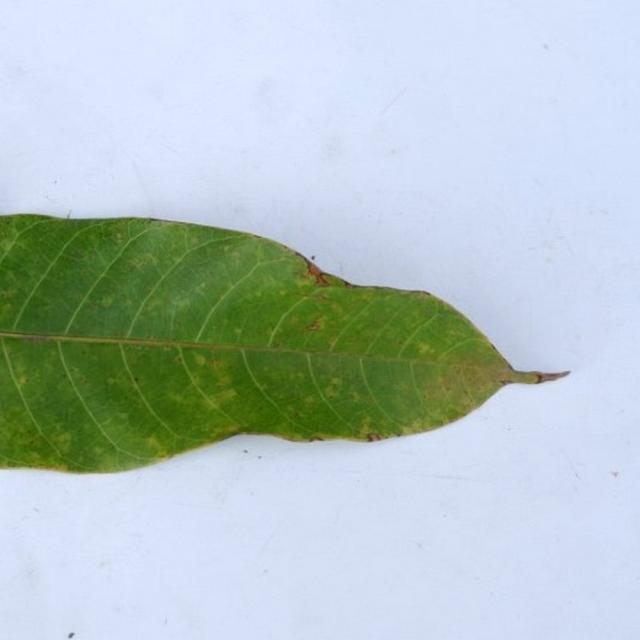Mango: (0, 215, 566, 472)
Powdery_Mildew: (435, 365, 480, 398), (125, 248, 157, 271), (214, 430, 249, 445), (358, 417, 376, 438), (188, 349, 208, 367), (216, 389, 237, 403), (20, 334, 51, 343), (415, 341, 434, 355), (324, 381, 340, 397), (146, 435, 162, 450), (313, 271, 330, 285), (57, 432, 71, 447), (4, 270, 18, 285), (409, 289, 434, 297), (100, 295, 114, 307), (453, 365, 467, 377), (306, 320, 321, 331), (313, 292, 331, 301), (147, 300, 161, 311), (147, 217, 172, 223), (106, 376, 120, 386), (293, 250, 307, 260), (499, 378, 516, 386), (234, 430, 253, 437), (17, 375, 28, 386), (209, 358, 220, 368), (330, 377, 342, 386), (343, 280, 356, 288), (174, 354, 184, 364), (309, 436, 325, 442), (233, 327, 243, 336), (198, 282, 207, 291), (115, 233, 124, 242), (251, 233, 264, 239), (305, 397, 314, 405), (65, 209, 72, 219), (392, 432, 402, 438), (279, 290, 286, 297), (133, 377, 139, 382), (311, 255, 316, 260), (30, 440, 34, 445)
